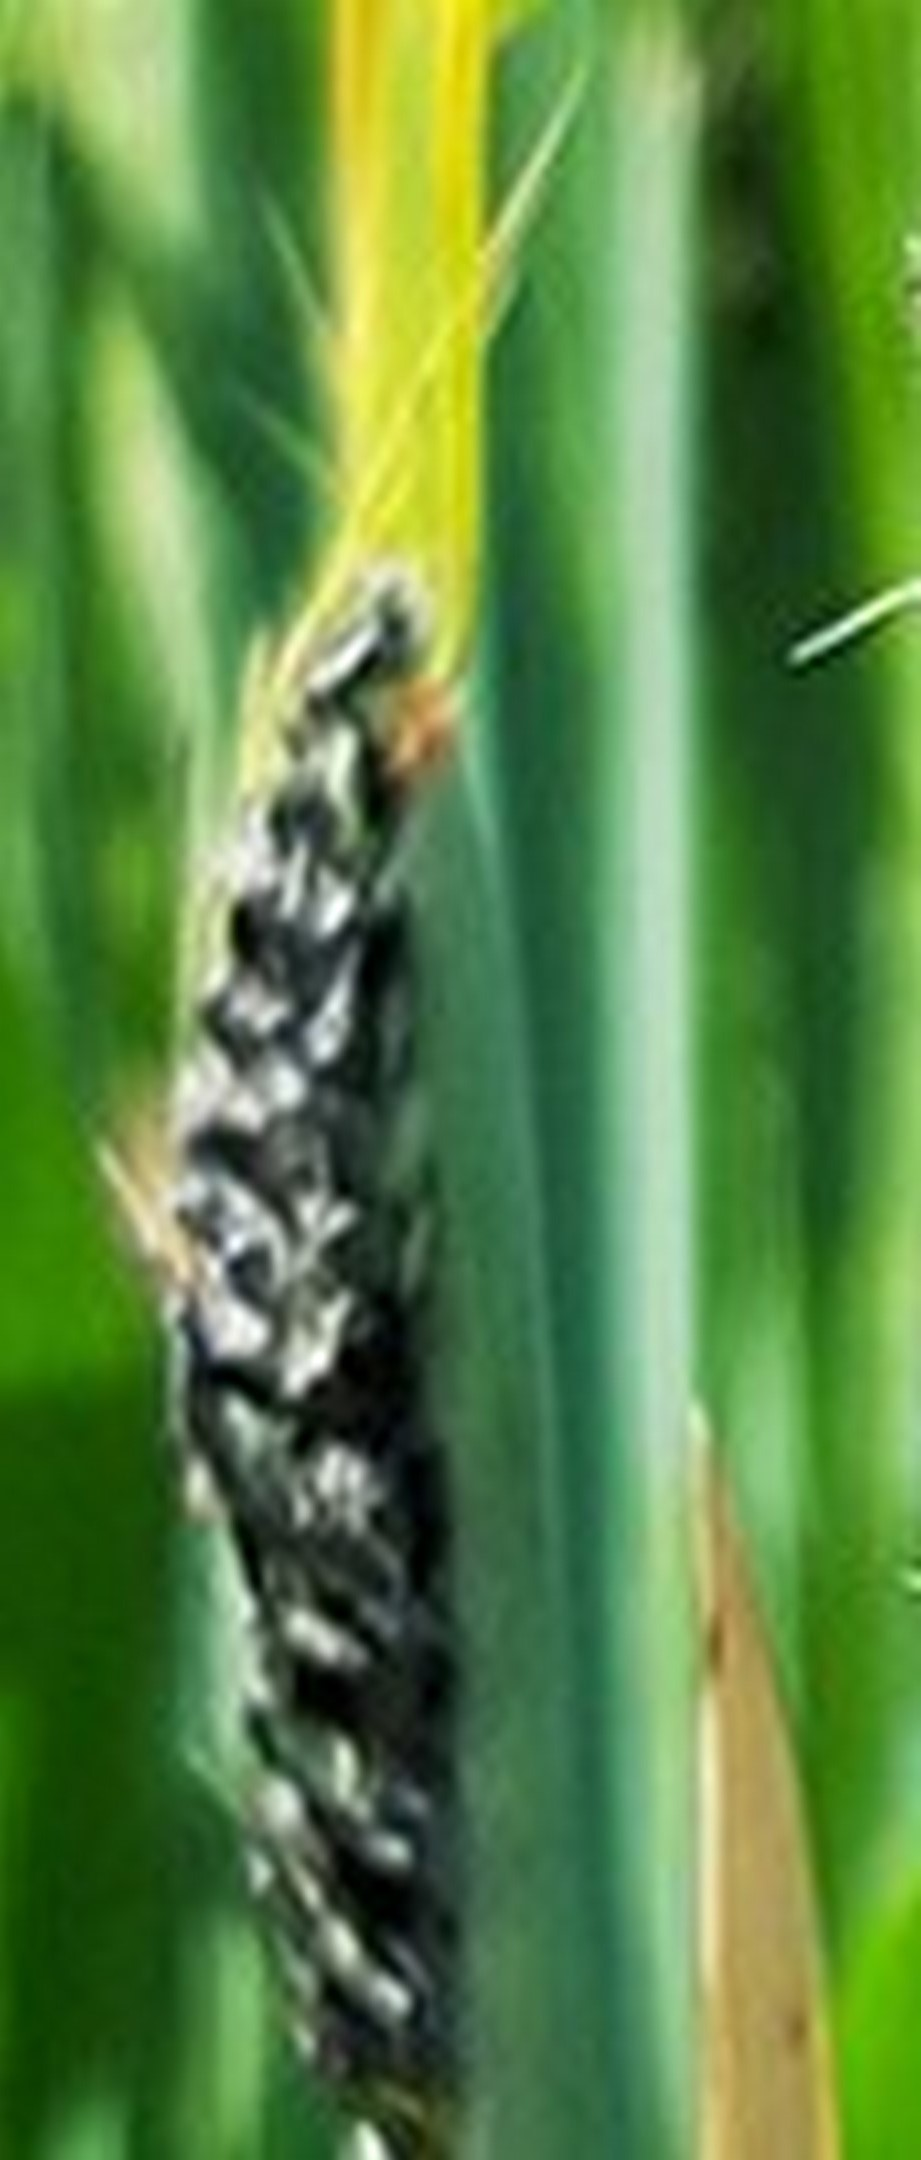Wheat Loose Smut: (136, 517, 538, 2094)
